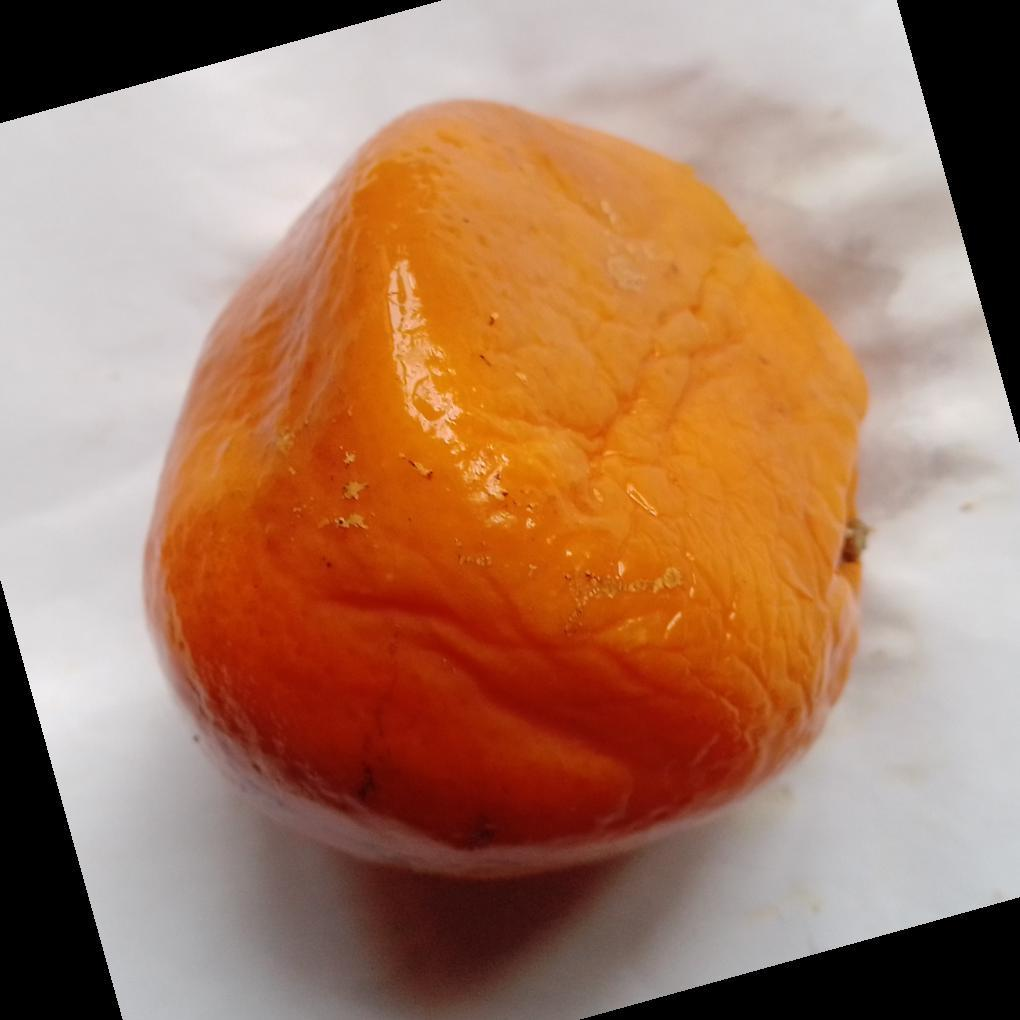FreshOrange: (140, 98, 871, 886)
